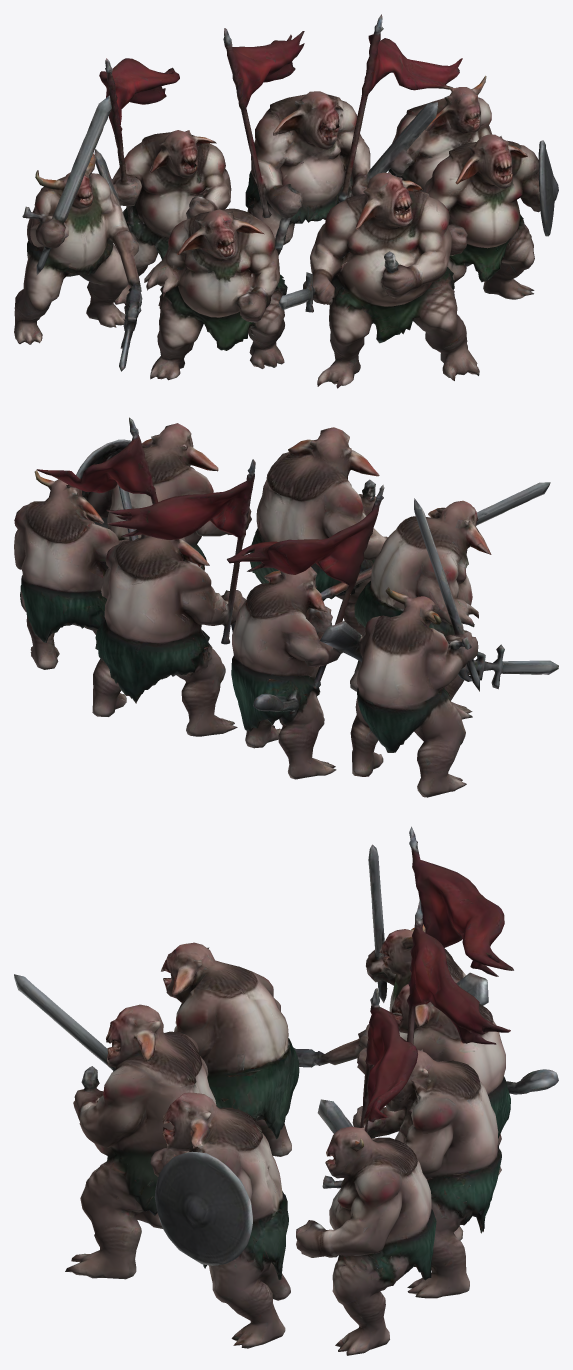
Rendered from Pusk Troop_final.glb.
3 views of the same model, one above another, from view 1: azimuth 30°, elevation 25°; view 2: azimuth 150°, elevation 25°; view 3: azimuth 270°, elevation 25° (orthographic). The views are drawn at different scales.
Parts seen in each view (by area): view 1: Mesh_0; view 2: Mesh_0; view 3: Mesh_0.
Part boxes in pixels (x1,y1,x2,y2): Mesh_0: (14, 14, 558, 388); Mesh_0: (14, 417, 558, 797); Mesh_0: (14, 826, 558, 1355).
Size of the model in its own units: 4.4 by 2.5 by 3.84.
Materials: 1 (1 with a texture image).
